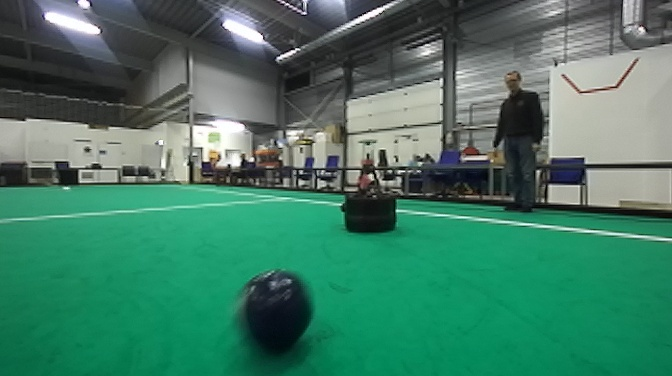ball: (234, 257, 320, 357)
human: (491, 71, 546, 220)
robot: (341, 132, 402, 238)
